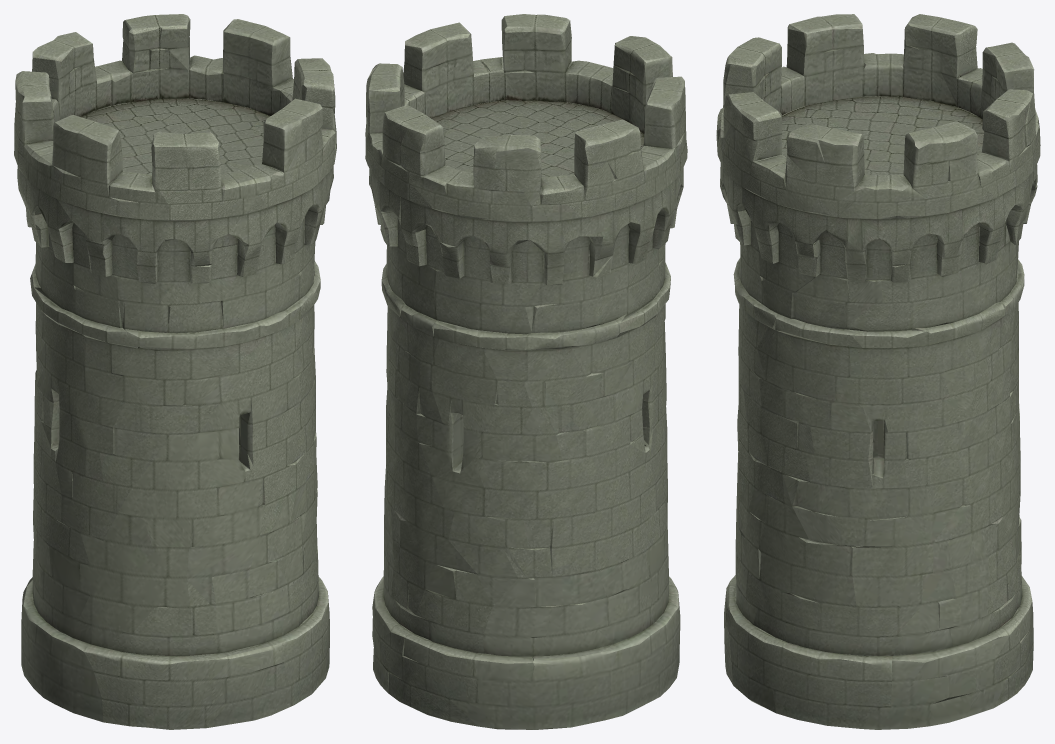
Rendered from wall_tower.glb.
3 renders of one model, left to right at view 1: azimuth 30°, elevation 25°; view 2: azimuth 150°, elevation 25°; view 3: azimuth 270°, elevation 25°, orthographic.
Parts seen in each view (by area): view 1: output_unwrapped; view 2: output_unwrapped; view 3: output_unwrapped.
Part boxes in pixels (bbox=[...]): output_unwrapped: bbox=[14, 14, 336, 729]; output_unwrapped: bbox=[365, 14, 687, 729]; output_unwrapped: bbox=[716, 14, 1040, 729].
Bounding box in the file's own units: 0.945 × 1.9 × 0.9471.
Materials: 1 (1 with a texture image).
